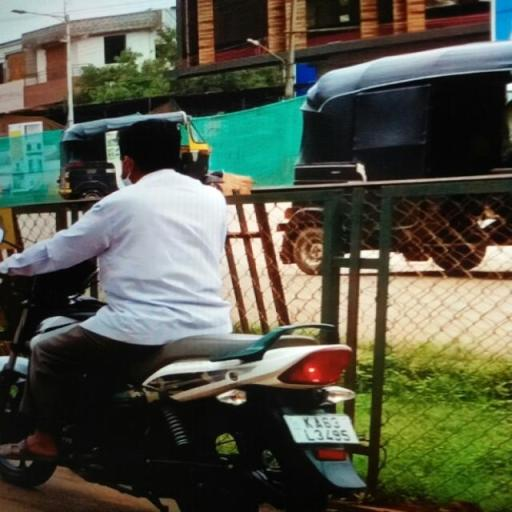bike: (2, 113, 383, 512)
numberplate: (284, 405, 363, 448)
withouthelmet: (114, 118, 182, 176)
